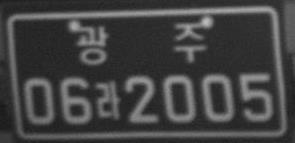0: (161, 73, 198, 123), (200, 72, 236, 123), (22, 76, 56, 125)
2: (123, 74, 159, 124)
5: (238, 71, 275, 123)
6: (58, 76, 93, 125)
광주_D: (75, 22, 208, 66)
라: (94, 80, 122, 120)
